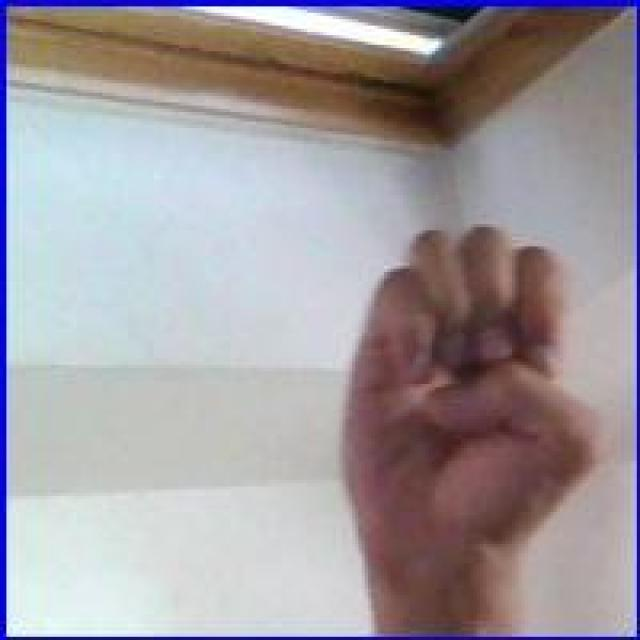E: (334, 225, 616, 578)
